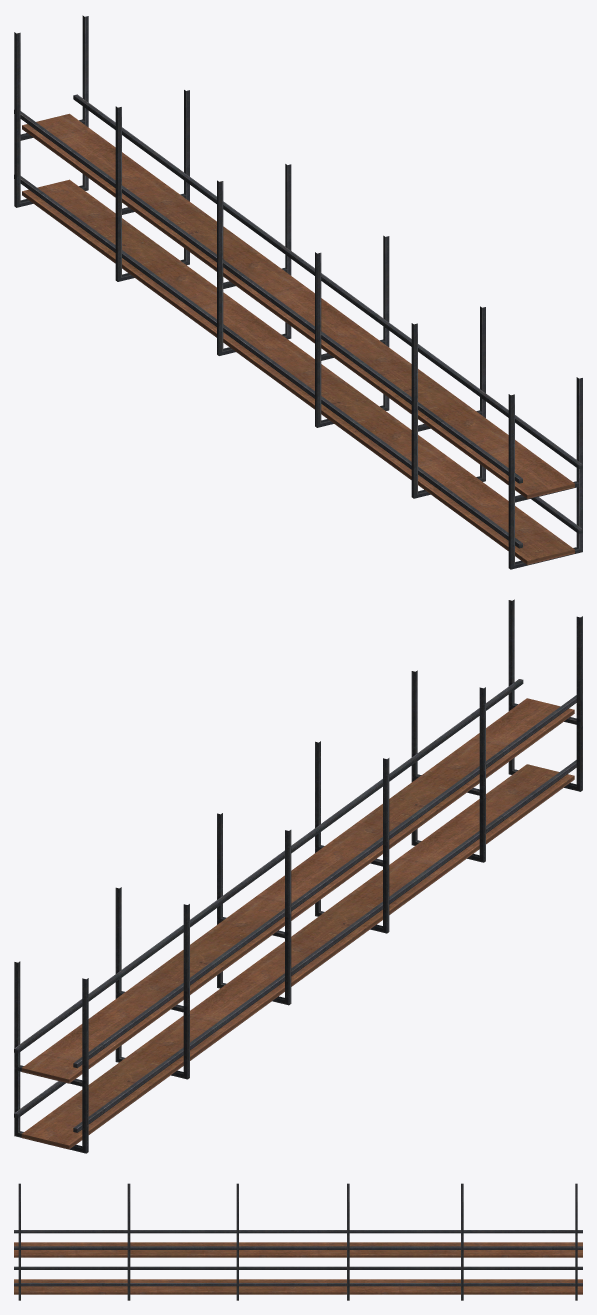
Rendered from Prop_JbJj01.glb.
The picture shows the model from 3 angles, top to bottom: view 1: azimuth 30°, elevation 25°; view 2: azimuth 150°, elevation 25°; view 3: azimuth 270°, elevation 25°; orthographic projection. The views are drawn at different scales.
Parts seen in each view (by area): view 1: xiutz_jb_jj_01; view 2: xiutz_jb_jj_01; view 3: xiutz_jb_jj_01.
Boxes of the visible parts, bbox=[...] form: xiutz_jb_jj_01: bbox=[14, 15, 582, 569]; xiutz_jb_jj_01: bbox=[14, 599, 582, 1153]; xiutz_jb_jj_01: bbox=[14, 1183, 582, 1300].
Bounding box in the file's own units: 0.8125 × 1.87 × 9.84.
Materials: 1 (1 with a texture image).
